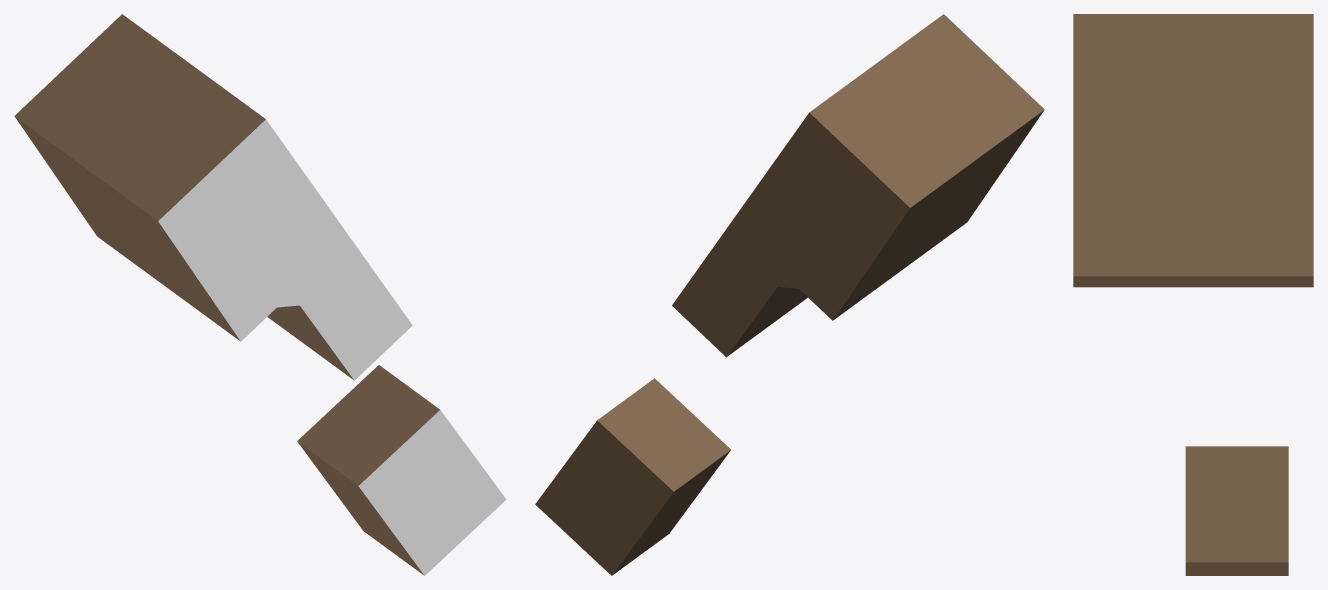
3 renders of one model, left to right at view 1: azimuth 30°, elevation 25°; view 2: azimuth 150°, elevation 25°; view 3: azimuth 270°, elevation 25°, orthographic. The views are drawn at different scales.
Parts seen in each view (by area): view 1: City_PC-08589; view 2: City_PC-08589; view 3: City_PC-08589.
Part boxes in pixels (x1,y1,x2,y2): City_PC-08589: (14, 14, 506, 575); City_PC-08589: (535, 14, 1044, 575); City_PC-08589: (1073, 14, 1313, 575).
Bounding box in the file's own units: 2392 × 3086 × 1433.
